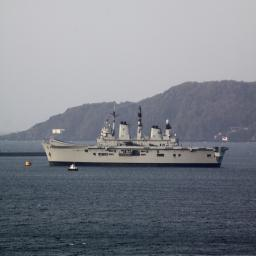Portanaves: (41, 103, 230, 169)
